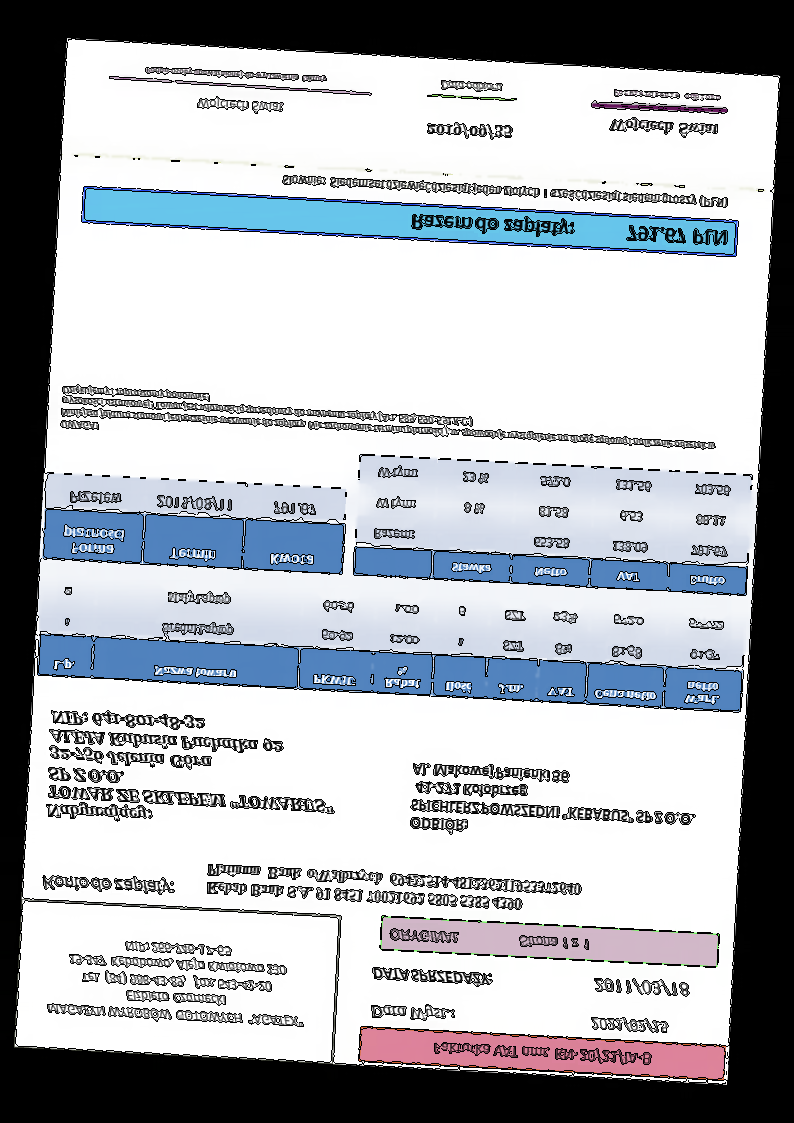Table: (35, 570, 747, 716), (350, 452, 754, 596), (41, 470, 348, 576)
TextBox: (58, 383, 719, 466), (43, 704, 339, 834), (406, 760, 703, 848), (42, 934, 312, 1030), (202, 858, 583, 919), (277, 171, 731, 213), (405, 209, 730, 252), (428, 1039, 655, 1069), (387, 925, 596, 955), (142, 64, 331, 86), (36, 872, 178, 900), (369, 962, 493, 990), (602, 114, 723, 142), (590, 975, 692, 1002), (422, 119, 516, 144), (367, 1001, 460, 1026), (192, 94, 285, 119), (589, 1012, 670, 1040), (610, 86, 723, 106), (438, 77, 504, 98)
